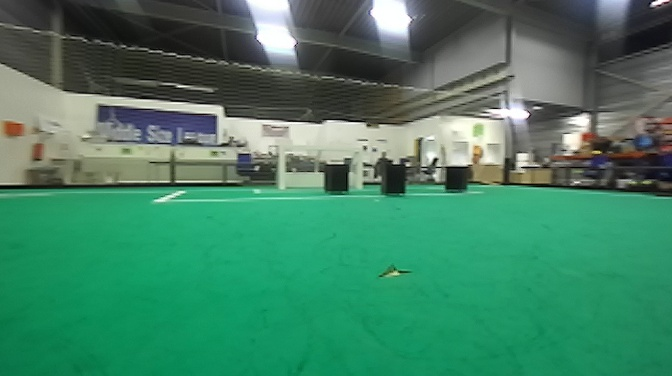goalpost: (351, 146, 362, 194), (276, 148, 285, 190)
